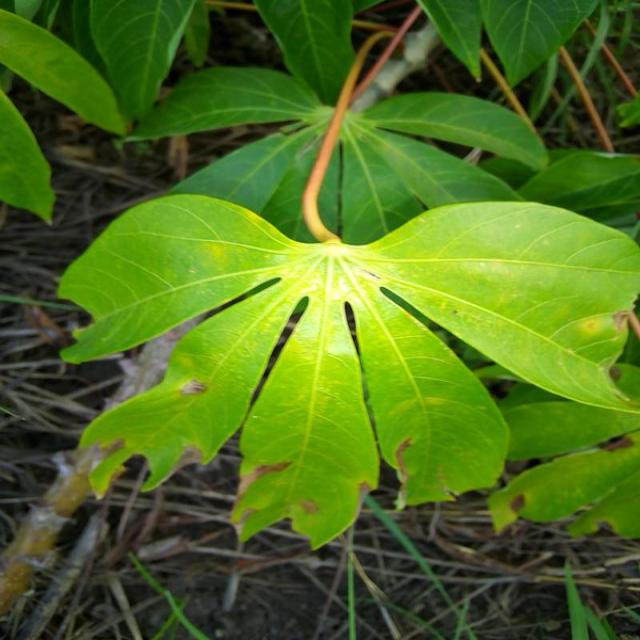cassava leaf: (58, 182, 640, 550)
